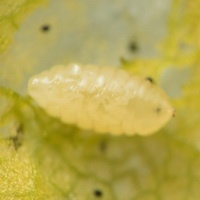insect: (28, 64, 173, 134)
